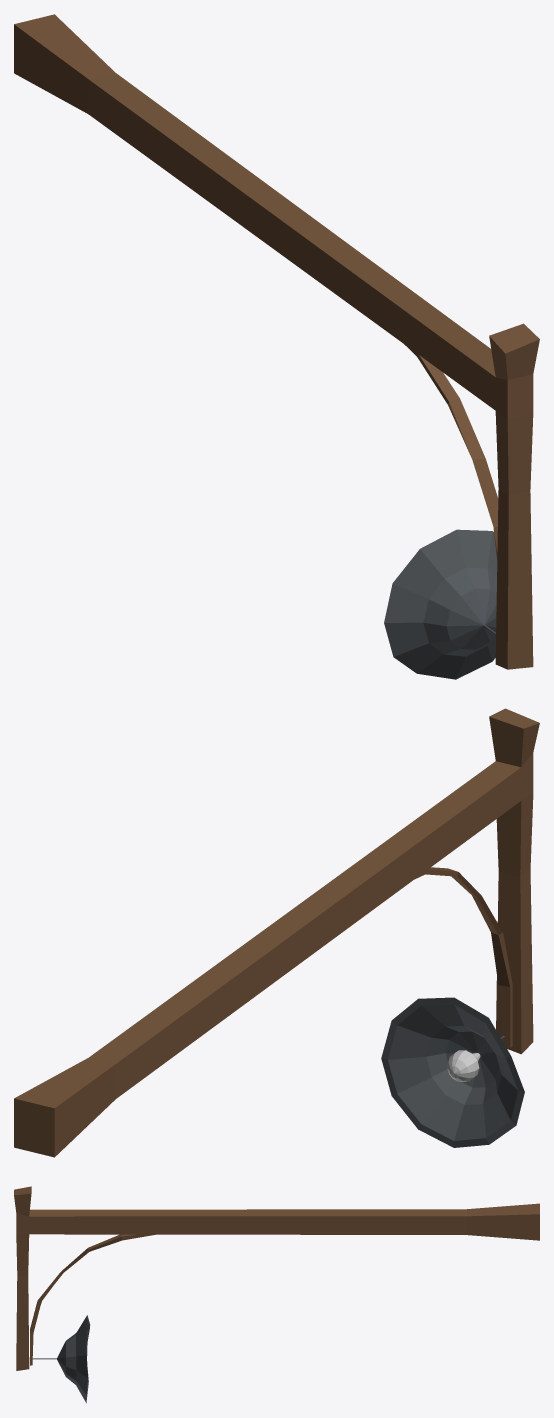
The model's file is Lamp_02.fbx.
3 renders of one model, top to bottom at view 1: azimuth 30°, elevation 25°; view 2: azimuth 150°, elevation 25°; view 3: azimuth 270°, elevation 25°, orthographic. The views are drawn at different scales.
Parts seen in each view (by area): view 1: Lamp_2.0_LOW.002; view 2: Lamp_2.0_LOW.002; view 3: Lamp_2.0_LOW.002.
Part boxes in pixels (x1,y1,x2,y2): Lamp_2.0_LOW.002: [14, 14, 539, 679]; Lamp_2.0_LOW.002: [14, 708, 539, 1157]; Lamp_2.0_LOW.002: [14, 1186, 539, 1403].
Bounding box in the file's own units: 50.78 × 132 × 300.
